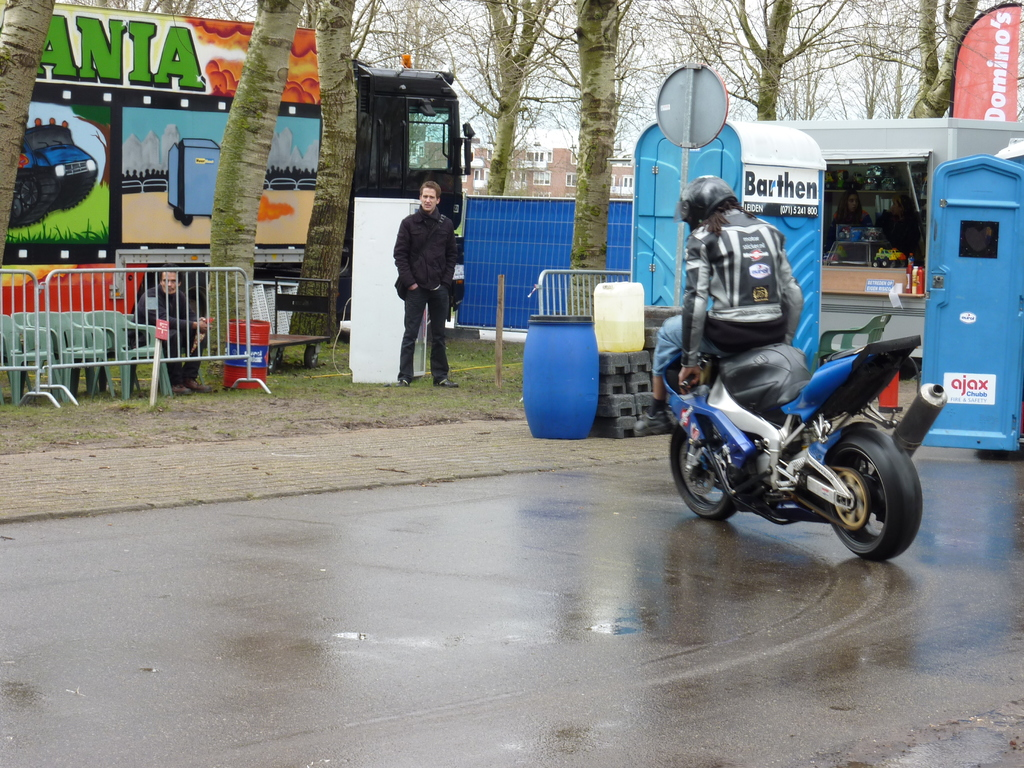Motorcycle: (661, 336, 947, 559)
